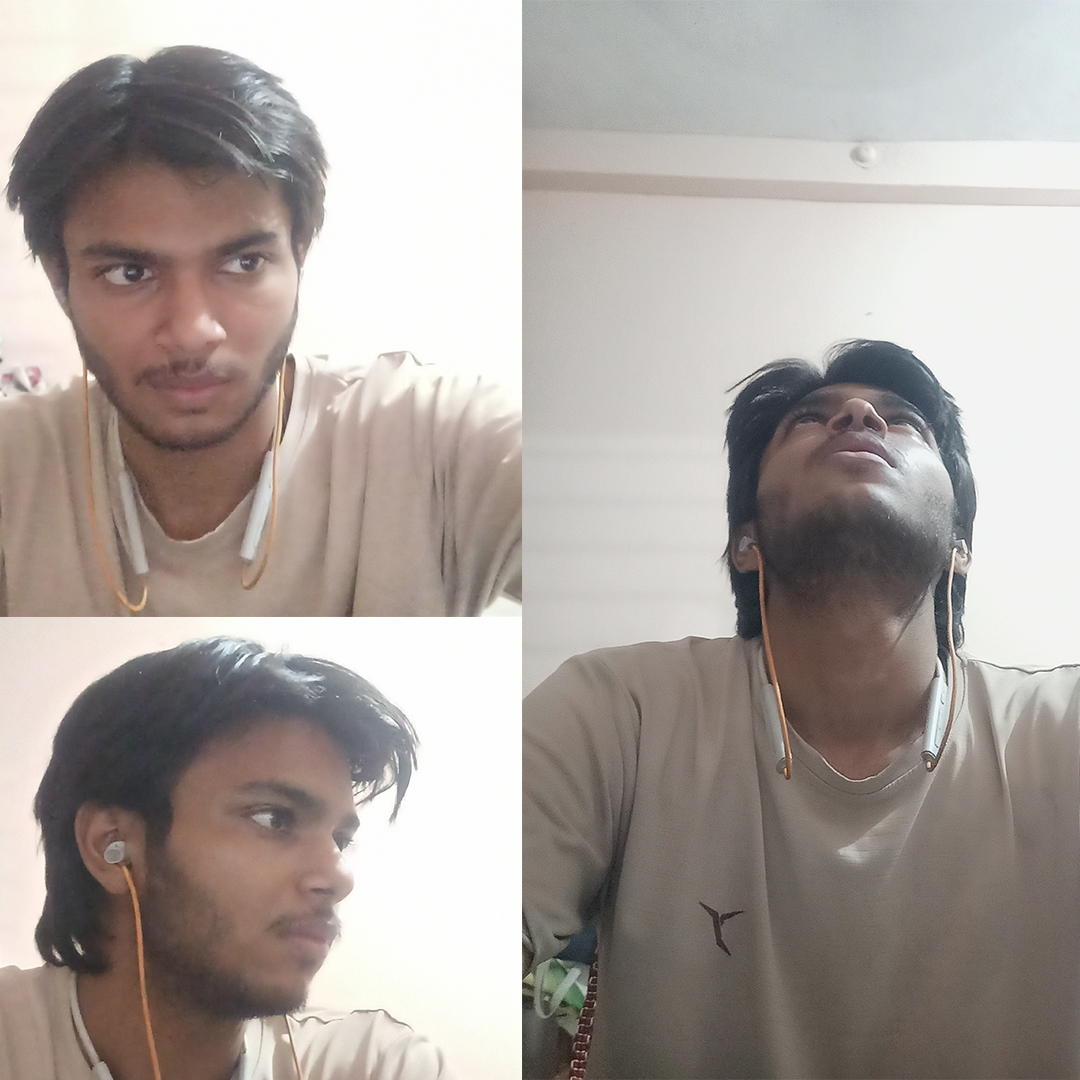Focused: (15, 43, 347, 471)
distracted: (666, 269, 988, 769), (33, 639, 419, 1047)
